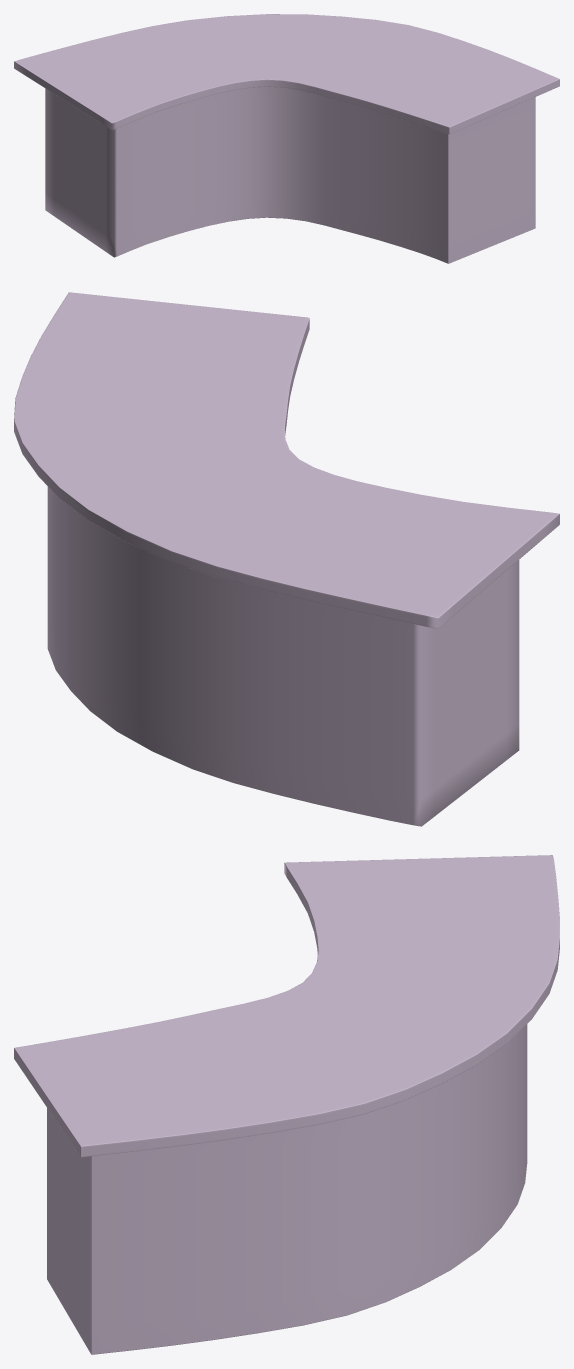
Rendered from Reception_table.obj.
3 views of the same model, one above another, from view 1: azimuth 30°, elevation 25°; view 2: azimuth 150°, elevation 25°; view 3: azimuth 270°, elevation 25° (orthographic). The views are drawn at different scales.
Parts seen in each view (by area): view 1: Reception_table; view 2: Reception_table; view 3: Reception_table.
Part boxes in pixels (x1,y1,x2,y2): Reception_table: [14, 14, 559, 263]; Reception_table: [14, 292, 559, 826]; Reception_table: [14, 855, 559, 1354].
Bounding box in the file's own units: 100 × 36 × 79.46.
Materials: 1 (1 with a texture image).
